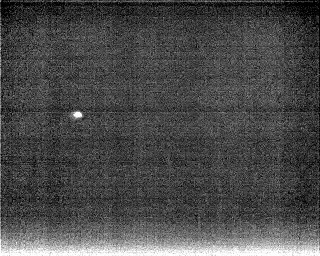AIRPLANE: (71, 109, 85, 120)
